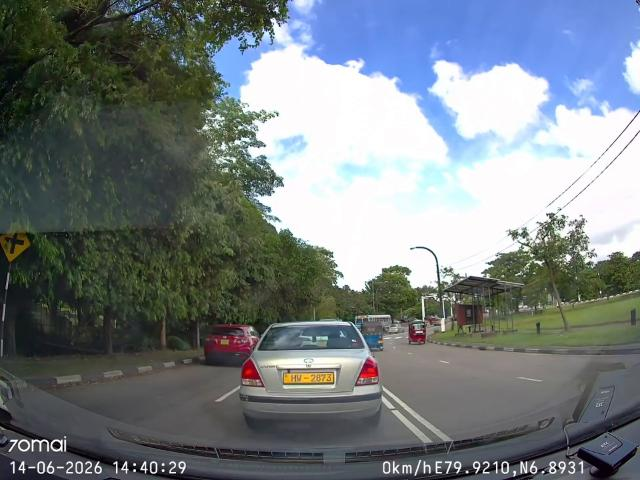number plate: (282, 369, 342, 389)
